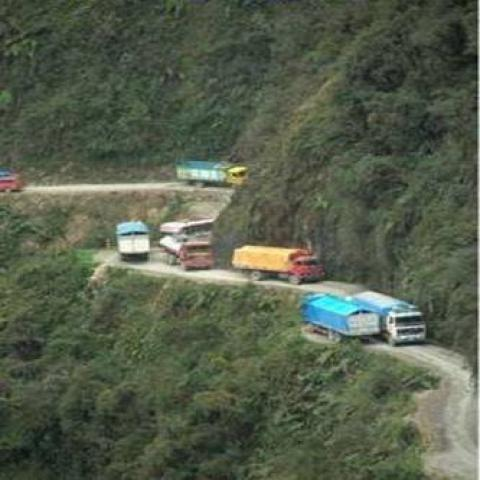bus: (159, 219, 214, 242), (0, 173, 24, 194)
car: (176, 242, 214, 270)
truck: (228, 244, 328, 287), (350, 290, 428, 345), (300, 293, 382, 343), (174, 163, 252, 189), (116, 223, 150, 260), (178, 240, 216, 272), (0, 170, 21, 192)
